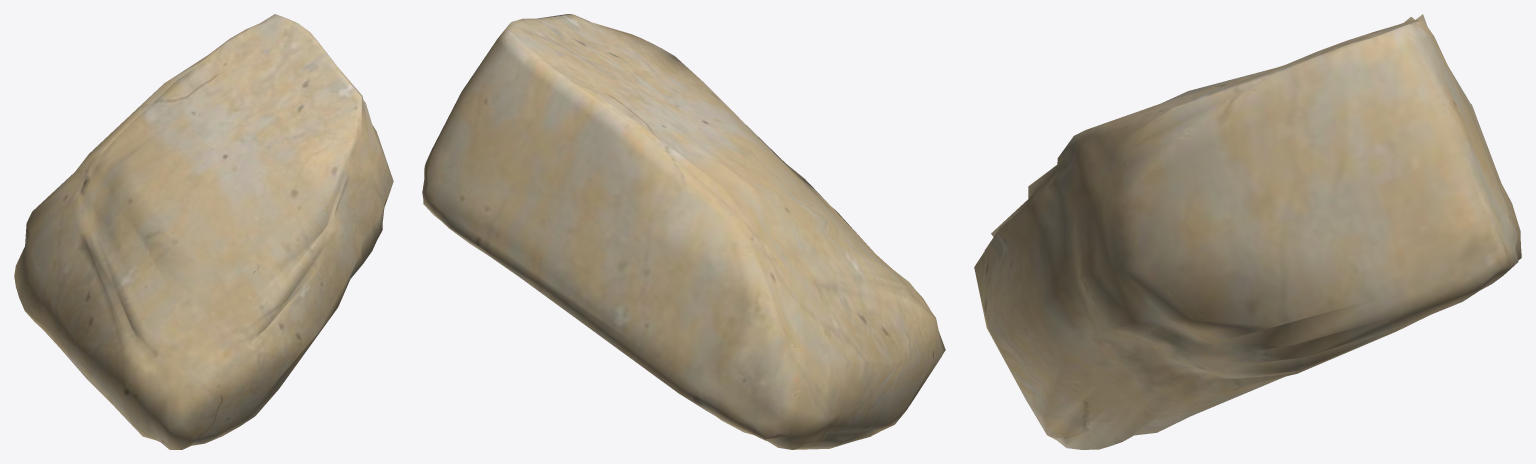
The model's file is lo_fall_m.glb.
3 renders of one model, left to right at view 1: azimuth 30°, elevation 25°; view 2: azimuth 150°, elevation 25°; view 3: azimuth 270°, elevation 25°, orthographic. The views are drawn at different scales.
Visible parts, largest first — view 1: lo_fall_m; view 2: lo_fall_m; view 3: lo_fall_m.
Part boxes in pixels (left/top/right/bottom): lo_fall_m: left=14, top=14, right=393, bottom=449; lo_fall_m: left=422, top=14, right=945, bottom=449; lo_fall_m: left=974, top=14, right=1521, bottom=449.
Size of the model in its own units: 1.01 by 0.9559 by 0.8685.
Materials: 1 (1 with a texture image).
